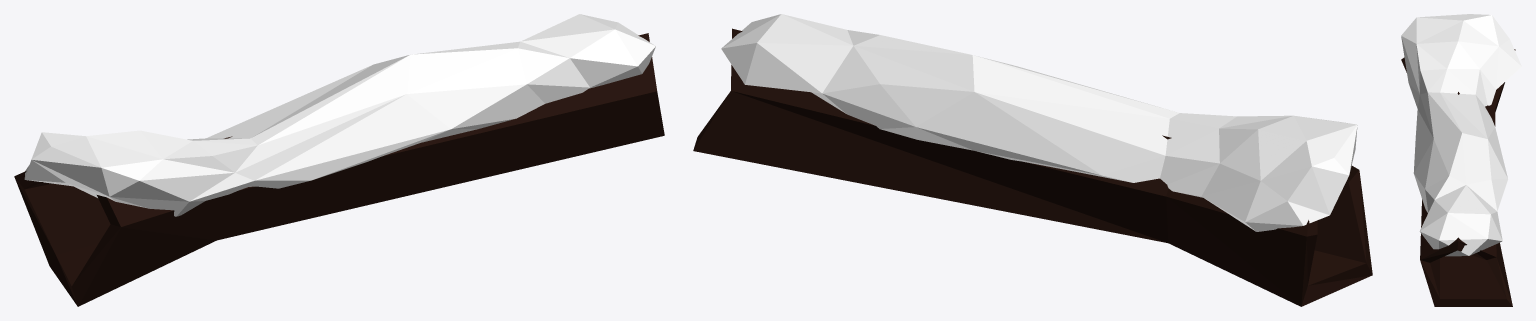
The model's file is TrunkWSnow_01.obj.
3 views of the same model, side by side, from view 1: azimuth 30°, elevation 25°; view 2: azimuth 150°, elevation 25°; view 3: azimuth 270°, elevation 25° (orthographic). The views are drawn at different scales.
Visible parts, largest first — view 1: TrunkWSnow_01_Circle; view 2: TrunkWSnow_01_Circle; view 3: TrunkWSnow_01_Circle.
Part boxes in pixels (left/top/right/bottom): TrunkWSnow_01_Circle: left=14, top=14, right=664, bottom=306; TrunkWSnow_01_Circle: left=693, top=14, right=1372, bottom=306; TrunkWSnow_01_Circle: left=1401, top=14, right=1521, bottom=306.
Size of the model in its own units: 4.75 by 1.08 by 1.13.
